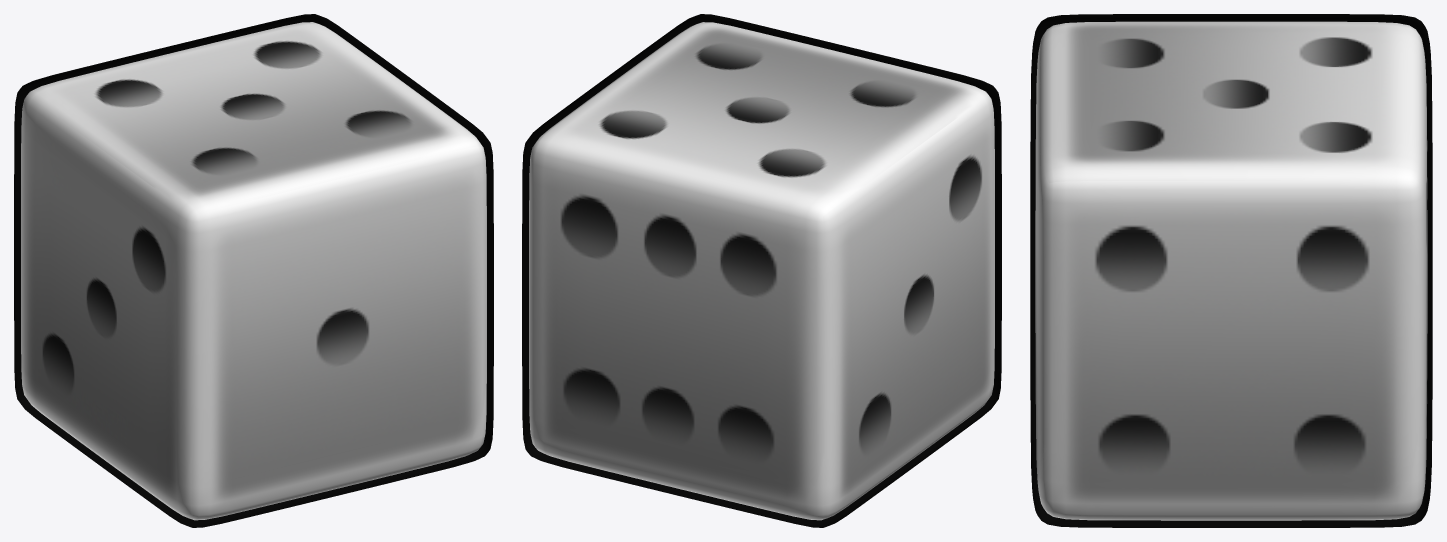
File: Dice.fbx
3 views of the same model, side by side, from view 1: azimuth 30°, elevation 25°; view 2: azimuth 150°, elevation 25°; view 3: azimuth 270°, elevation 25° (orthographic). The views are drawn at different scales.
Parts seen in each view (by area): view 1: Dice_outlineEffect; view 2: Dice_outlineEffect; view 3: Dice_outlineEffect.
Boxes of the visible parts, x1,y1,x2,y2 form: Dice_outlineEffect: (14, 14, 493, 527); Dice_outlineEffect: (522, 14, 1001, 527); Dice_outlineEffect: (1030, 14, 1432, 527).
Bounding box in the file's own units: 46.34 × 46.34 × 46.35.
Materials: 1 (1 with a texture image).
